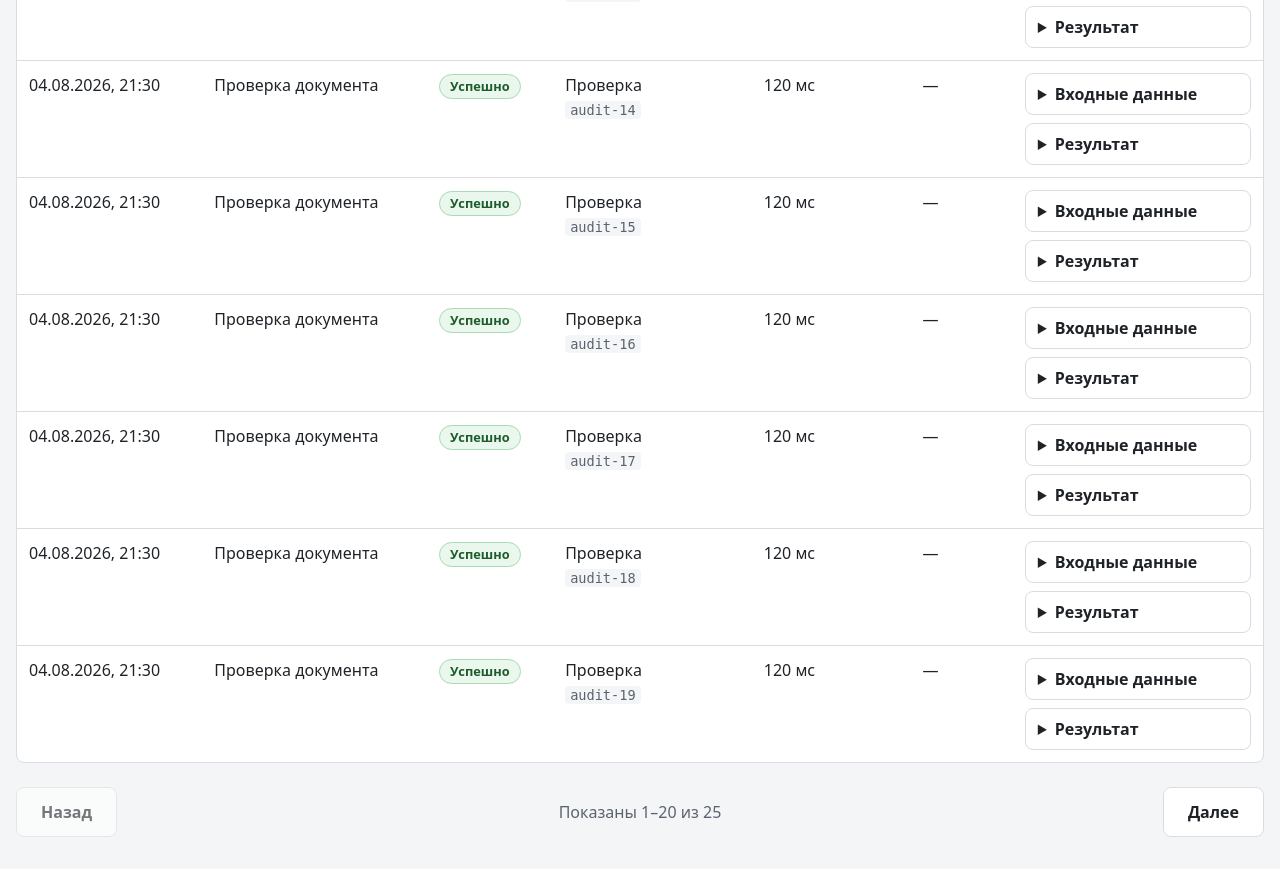
Test: AuditJournalPage › изменение фильтра сбрасывает offset на 0
(page scrolled)
Click the button "Далее": {"x": 1213, "y": 812} [1163, 787, 1264, 837]
(page scrolled)
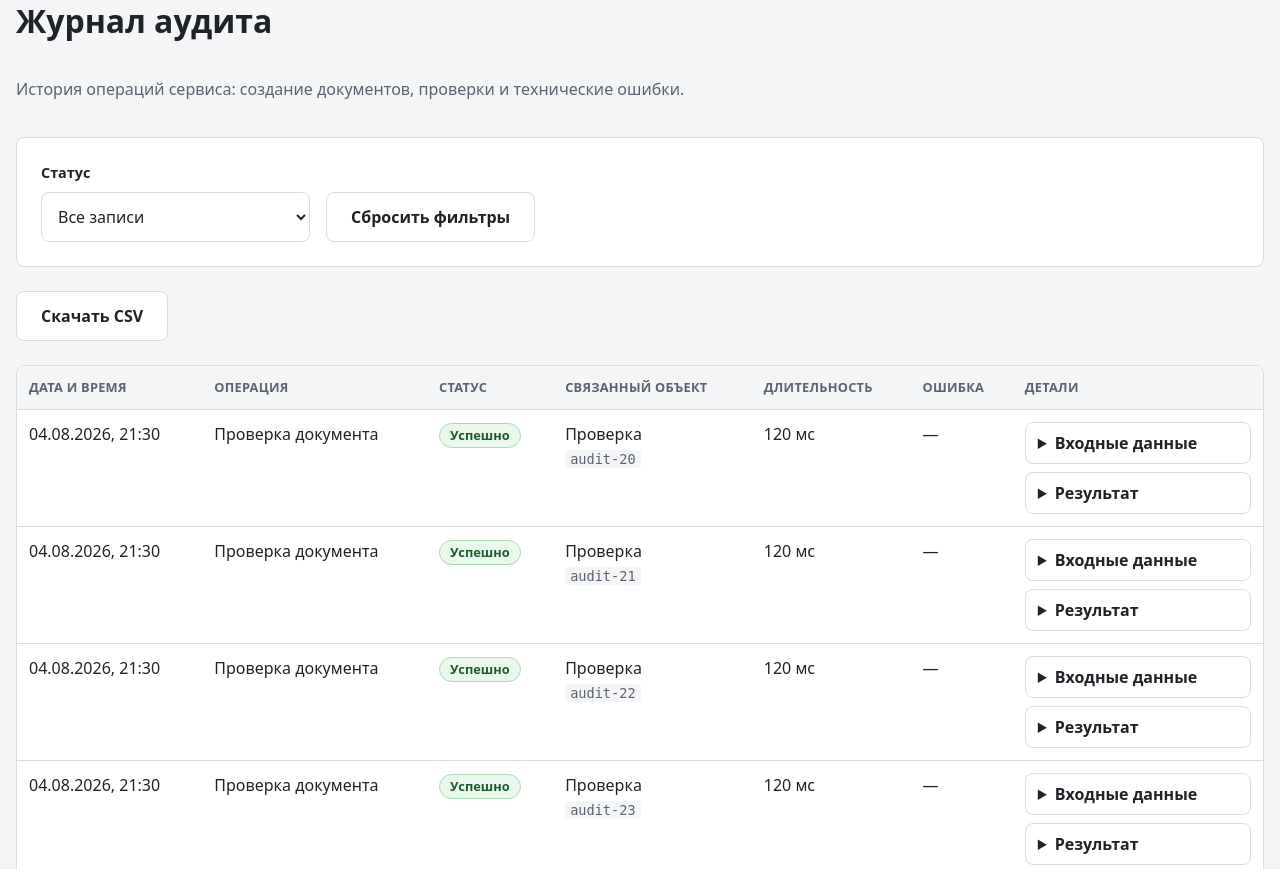
Select "Успешно" in the dropdown labelled "Статус": {"x": 176, "y": 217} [41, 192, 310, 242]
(page scrolled)
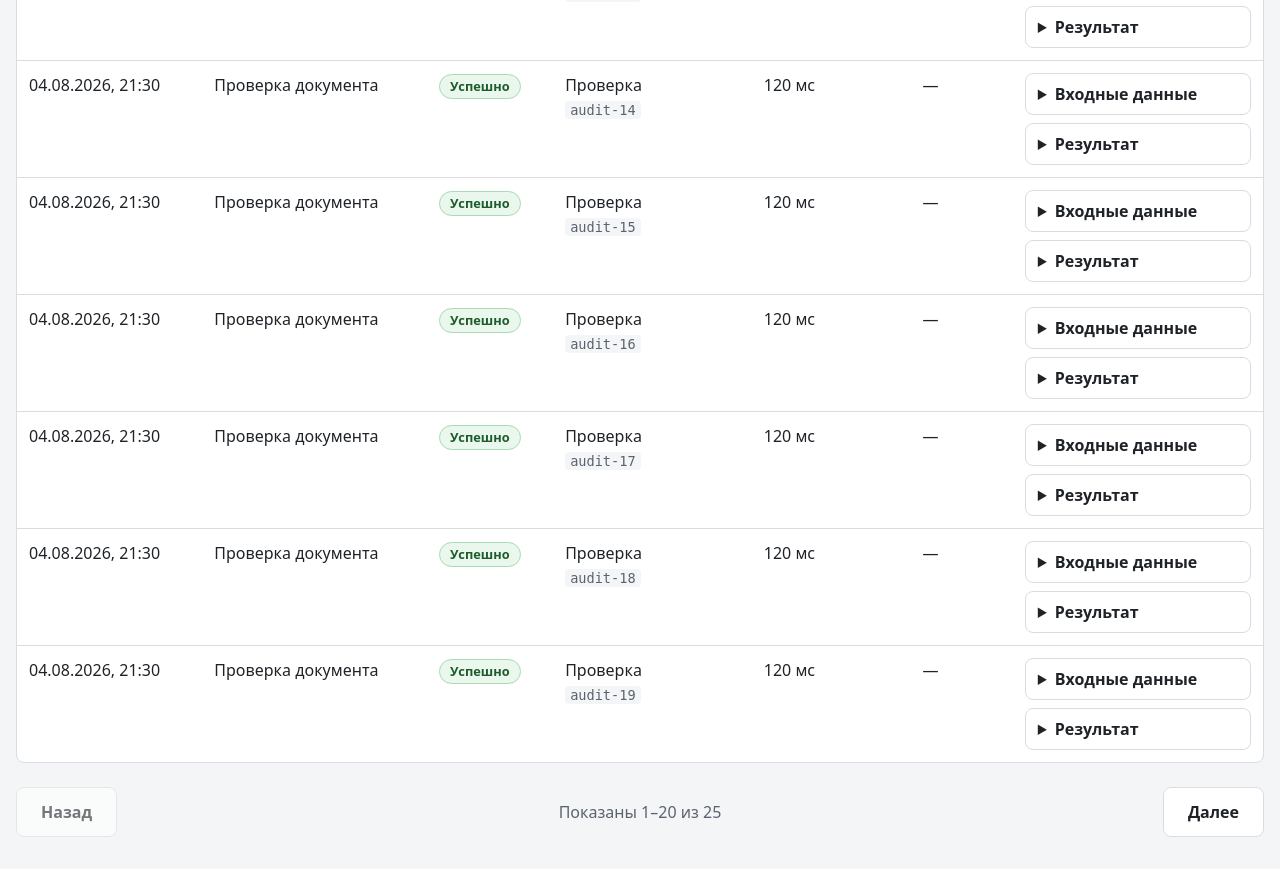
Now the text "Показаны 1–20 из 25" is shown, box [559, 800, 721, 824]
